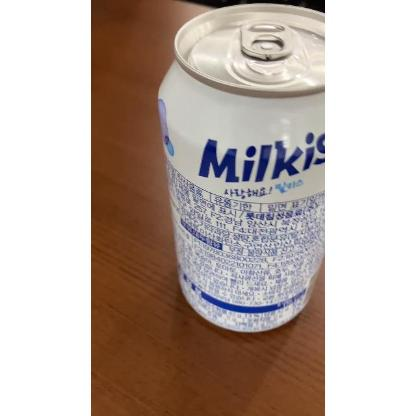Can: (157, 1, 325, 337)
